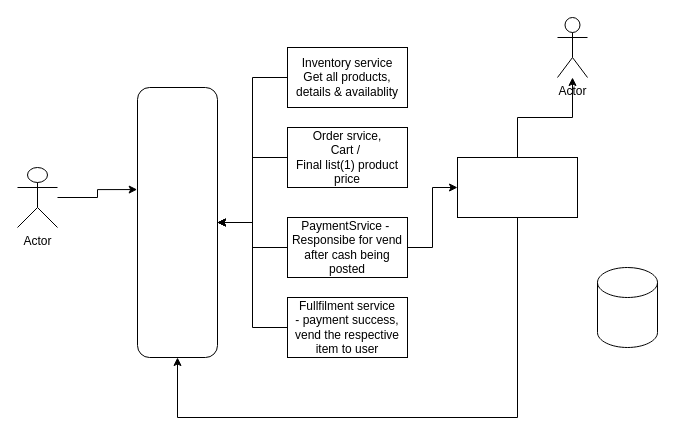
Image size: 675x443. Some labels were removed from this diagram. Here are the shapes that lost their labels. From the top down, the box of each, then its label:
(456, 156, 578, 218): SupportService
(136, 86, 218, 358): VENDING MACHINE
